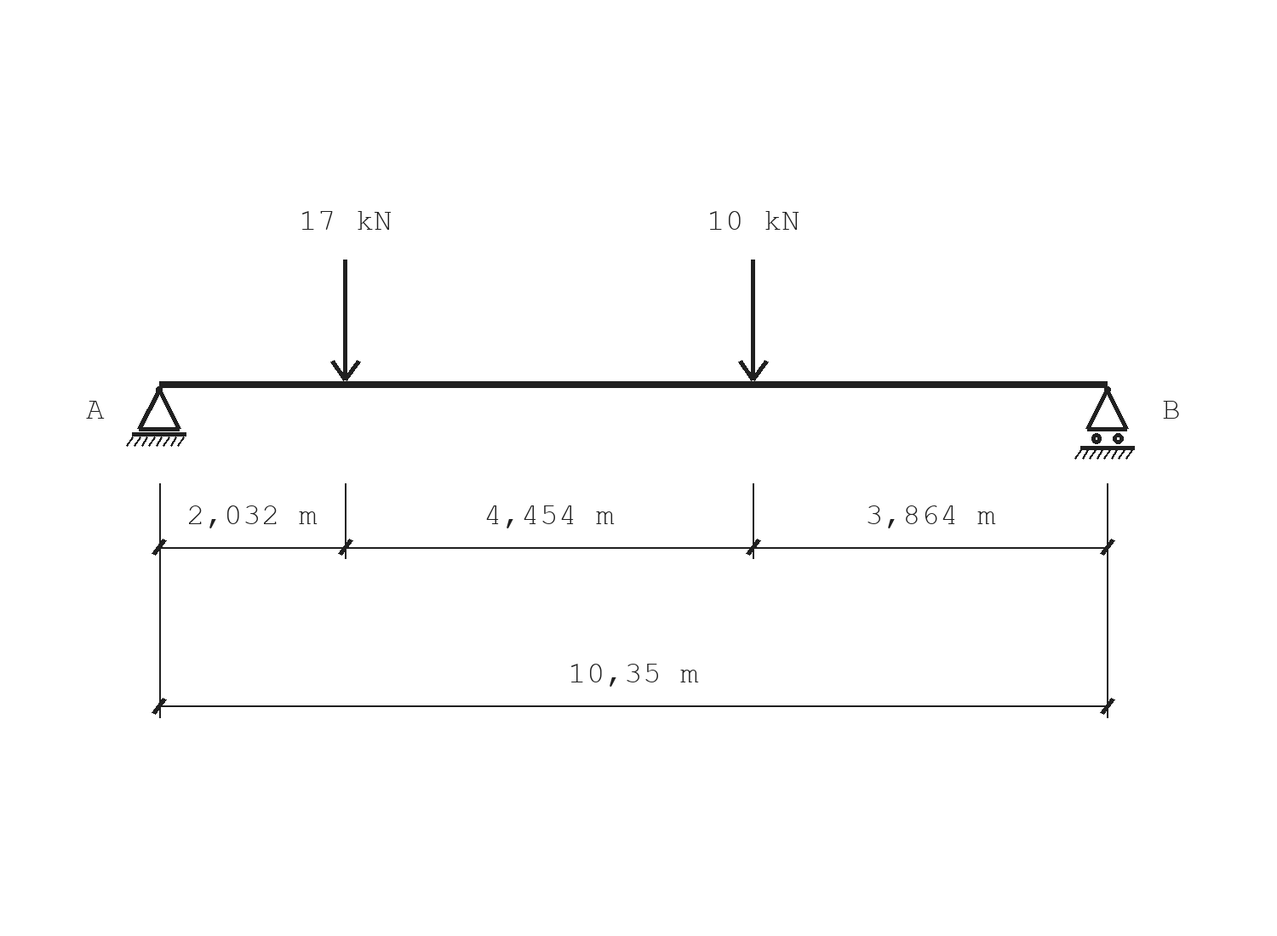pin_support: (126, 386, 186, 447)
point_load: (330, 260, 361, 381), (738, 260, 769, 381)
roller_support: (1074, 386, 1135, 459)
